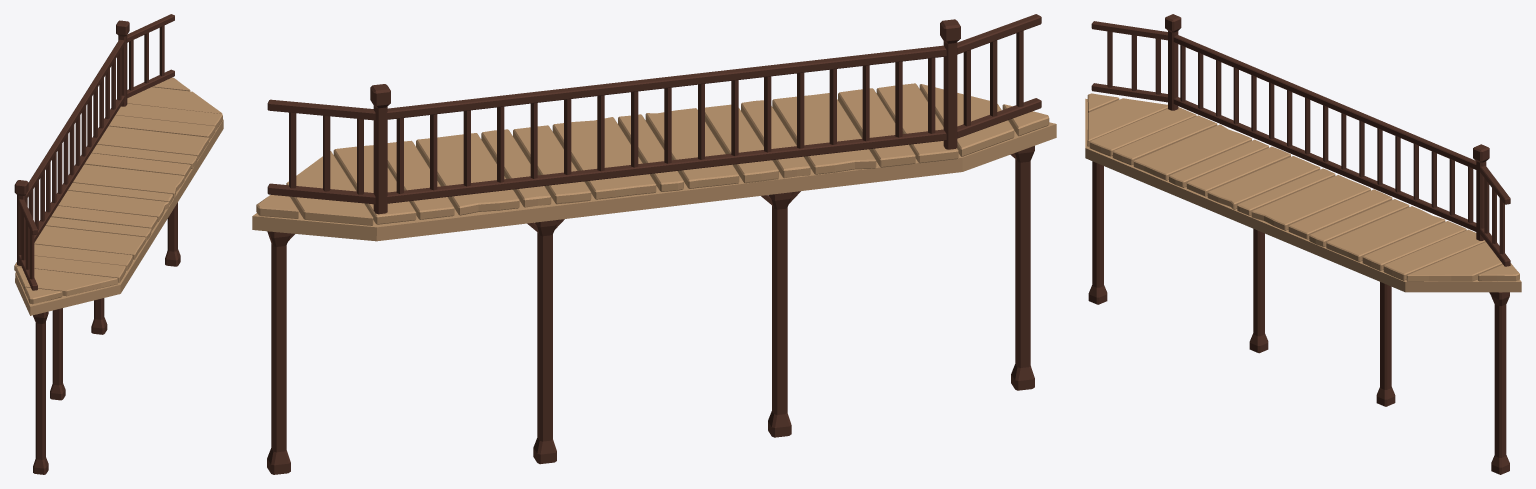
Rendered from balcony-with-railing-c.glb.
3 renders of one model, left to right at view 1: azimuth 30°, elevation 25°; view 2: azimuth 150°, elevation 25°; view 3: azimuth 270°, elevation 25°, orthographic. The views are drawn at different scales.
Visible parts, largest first — view 1: Balcony With Railing C (×2); view 2: Balcony With Railing C (×2); view 3: Balcony With Railing C (×2).
Boxes of the visible parts, x1=… form: Balcony With Railing C (×2): x1=14, y1=14, x2=223, y2=474; Balcony With Railing C (×2): x1=252, y1=14, x2=1056, y2=474; Balcony With Railing C (×2): x1=1085, y1=14, x2=1521, y2=474.
Size of the model in its own units: 4.29 by 3.19 by 4.32.
